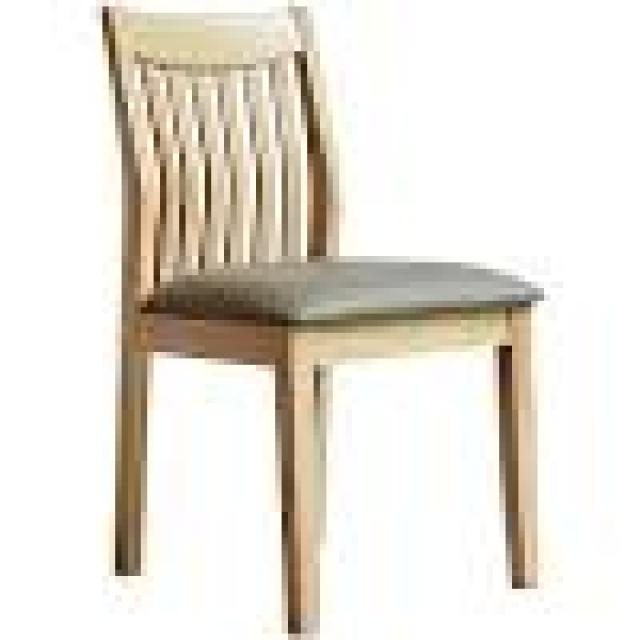bottle: (99, 4, 538, 636)
